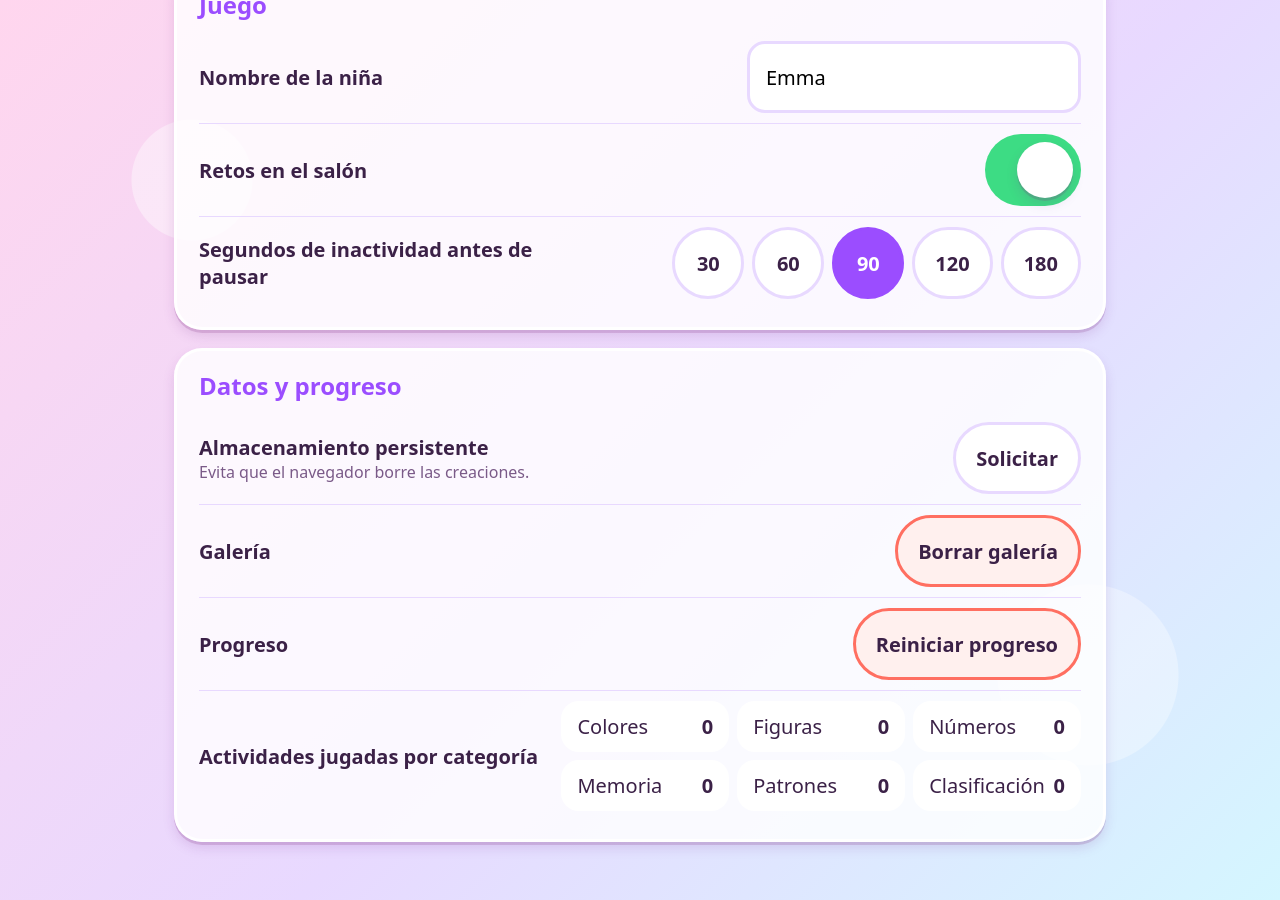
it: ParentSettings › borrar galería pide confirmación
The image size is (1280, 900).
(page scrolled)
Click the button with test id "clear-gallery". click: [988, 551]
box: top-left (895, 515), bottom-right (1081, 587)
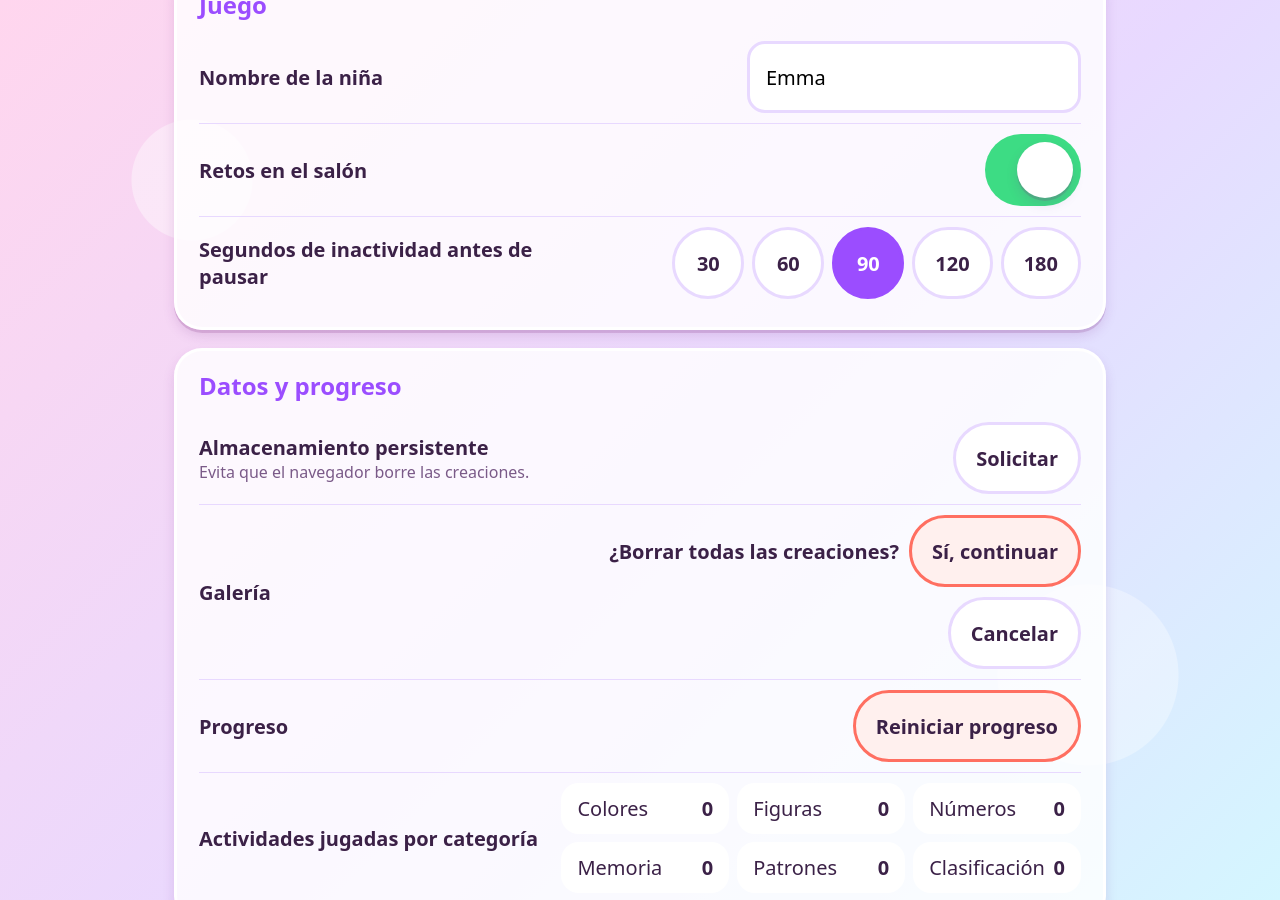
Check: the element with test id "clear-gallery-confirm" is shown, box top-left (561, 515), bottom-right (1081, 669)
